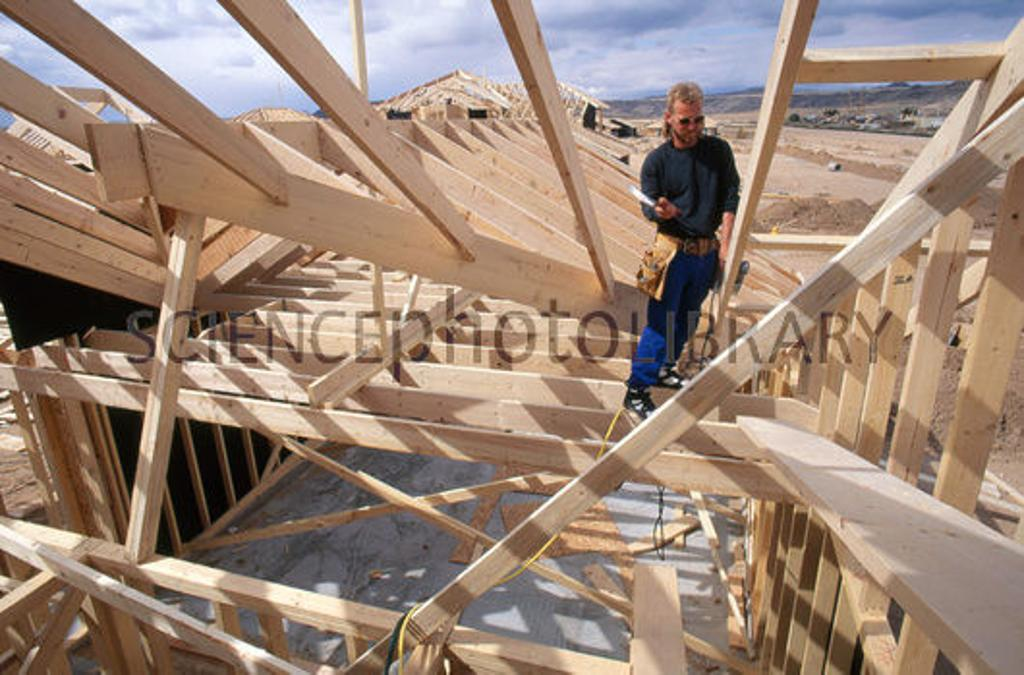face: (671, 100, 704, 141)
